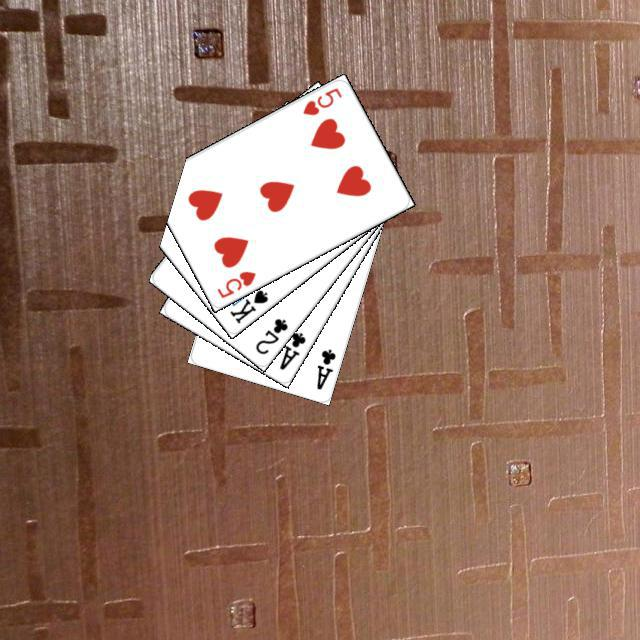2c: (250, 313, 290, 356)
5h: (212, 266, 258, 300), (298, 83, 343, 117)
Ac: (274, 327, 307, 372), (311, 344, 337, 392)
Ks: (225, 284, 270, 325)
